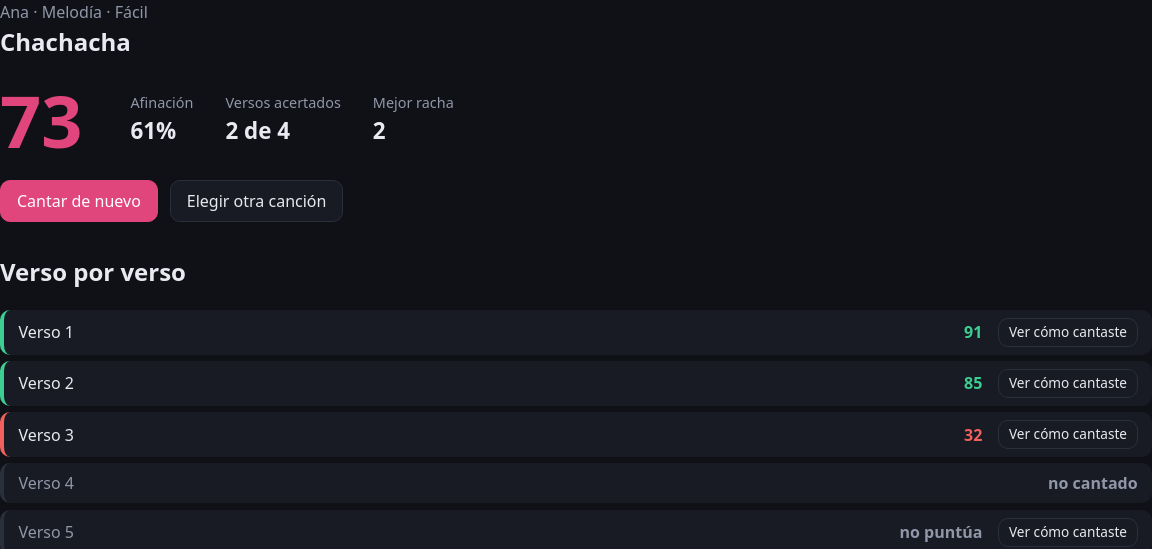
Test: ResultsPage › opens how each sung line was sung
Click the button "Ver cómo cantaste" next to "32".
click(1068, 435)  # box [998,420,1138,449]
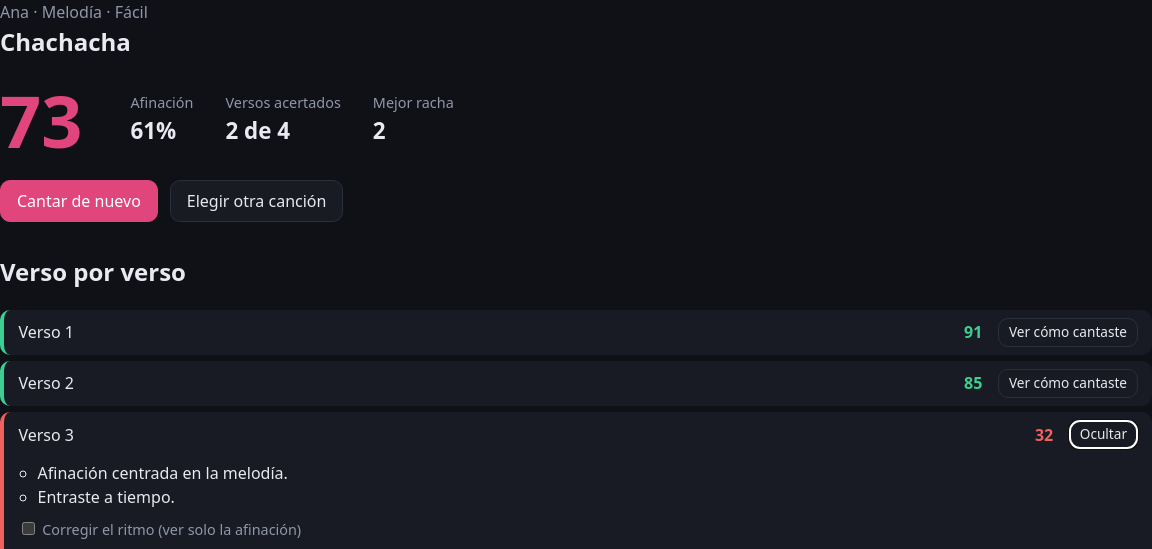
Now the button named "Ver cómo cantaste" is expanded
Now the list item "Entraste a tiempo." is shown, box [38,486,175,508]
Click the button "Ocultar".
click(1103, 435)  # box [1069,420,1138,449]
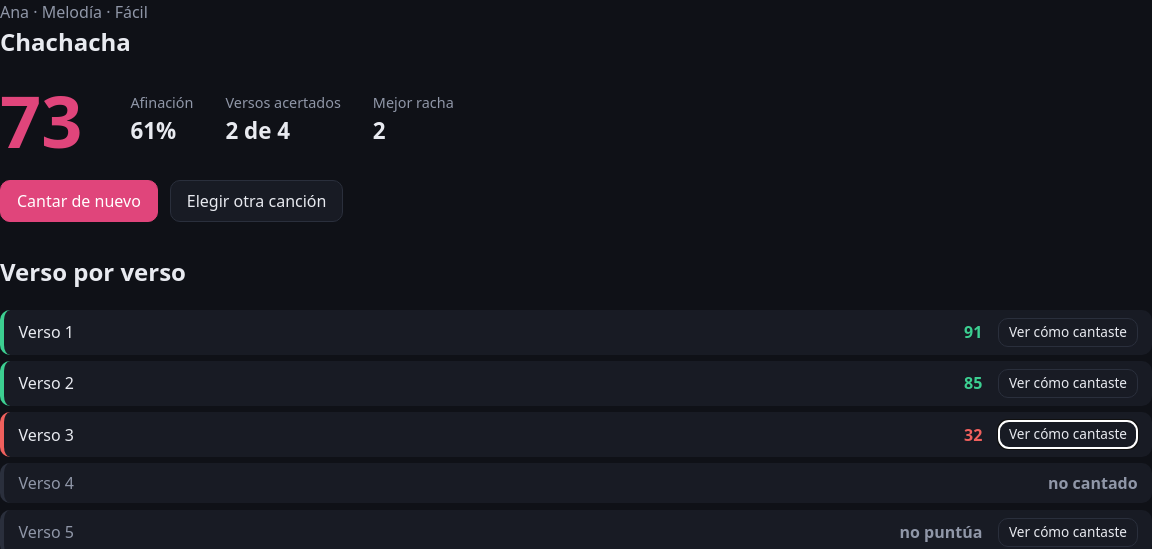
Now the list item "Entraste a tiempo." is gone
